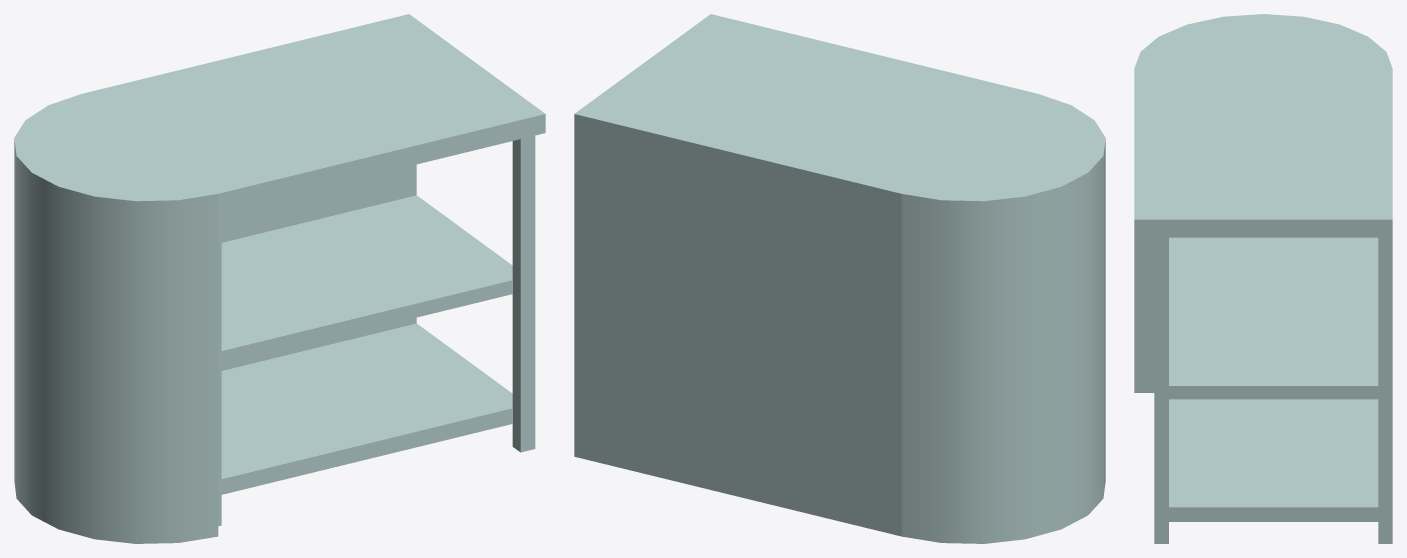
The model's file is CounterEnd02Blue.fbx.
The picture shows the model from 3 angles, left to right: view 1: azimuth 30°, elevation 25°; view 2: azimuth 150°, elevation 25°; view 3: azimuth 270°, elevation 25°; orthographic projection. The views are drawn at different scales.
Visible parts, largest first — view 1: pCylinder2; view 2: pCylinder2; view 3: pCylinder2.
Boxes of the visible parts, bbox=[...] form: pCylinder2: bbox=[14, 14, 545, 543]; pCylinder2: bbox=[574, 14, 1105, 543]; pCylinder2: bbox=[1134, 14, 1392, 543].
Bounding box in the file's own units: 1224 × 900 × 650.
